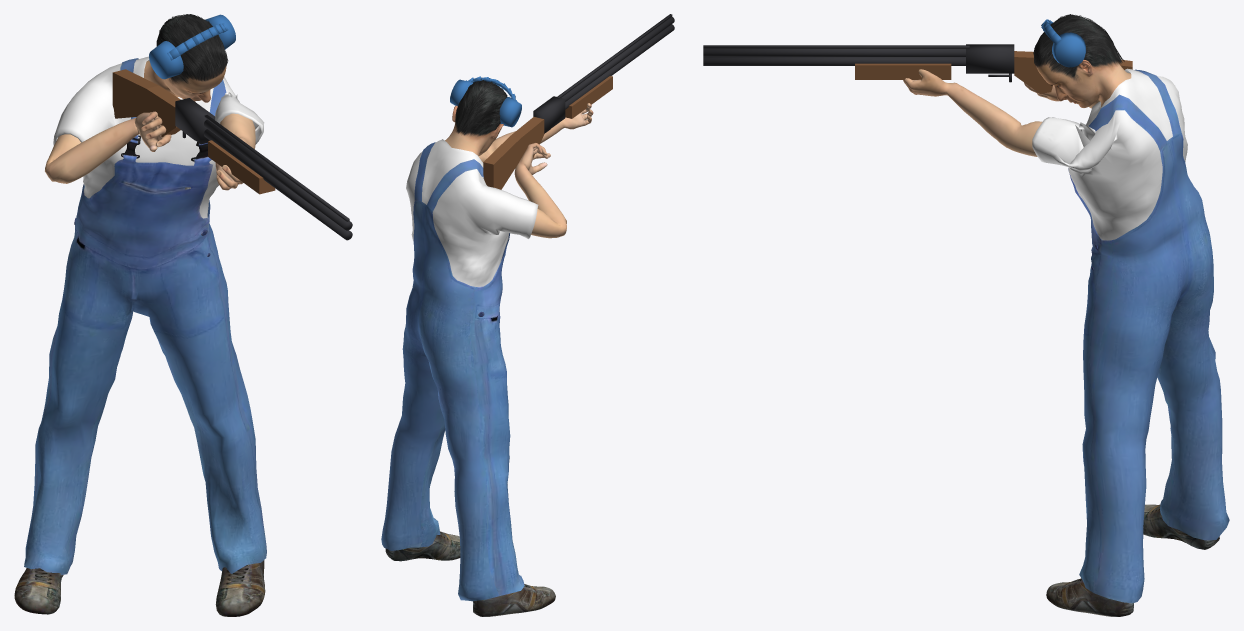
3 views of the same model, side by side, from view 1: azimuth 30°, elevation 25°; view 2: azimuth 150°, elevation 25°; view 3: azimuth 270°, elevation 25° (orthographic). The views are drawn at different scales.
Parts seen in each view (by area): view 1: Human.male_worksuit01, Human, fusil_acier, Human.shoes02, fusil_bois, Human.short04, casque; view 2: Human.male_worksuit01, Human, Human.shoes02, fusil_acier, fusil_bois, Human.short04, casque; view 3: Human.male_worksuit01, fusil_acier, Human, Human.shoes02, Human.short04, fusil_bois, casque.
Boxes of the visible parts, bbox=[...] form: Human.male_worksuit01: bbox=[24, 56, 266, 574]; Human: bbox=[45, 60, 255, 190]; fusil_acier: bbox=[175, 98, 352, 240]; Human.shoes02: bbox=[14, 560, 265, 616]; fusil_bois: bbox=[112, 69, 275, 194]; Human.short04: bbox=[156, 14, 228, 83]; casque: bbox=[149, 14, 235, 79]; Human.male_worksuit01: bbox=[381, 139, 538, 601]; Human: bbox=[445, 103, 593, 238]; Human.shoes02: bbox=[385, 531, 555, 616]; fusil_acier: bbox=[533, 14, 674, 133]; fusil_bois: bbox=[483, 76, 612, 189]; Human.short04: bbox=[455, 80, 507, 136]; casque: bbox=[450, 76, 521, 127]; Human.male_worksuit01: bbox=[1032, 68, 1229, 603]; fusil_acier: bbox=[703, 44, 1014, 82]; Human: bbox=[903, 60, 1131, 156]; Human.shoes02: bbox=[1046, 504, 1219, 616]; Human.short04: bbox=[1033, 14, 1124, 80]; fusil_bois: bbox=[855, 51, 1132, 93]; casque: bbox=[1041, 19, 1086, 67].
Bounding box in the file's own units: 0.6571 × 1.69 × 1.42.
10 materials, 7 textured.
